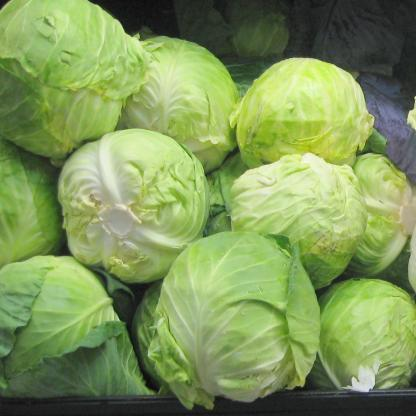---: (129, 233, 316, 398), (42, 130, 221, 291), (228, 158, 376, 280), (233, 47, 364, 170)
